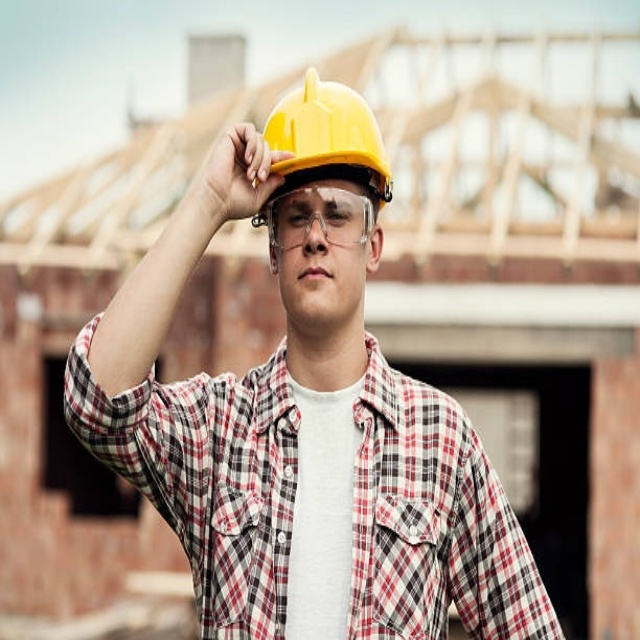Gafas: (262, 184, 373, 251)
Sin_guantes: (203, 119, 295, 227)
Sin_mascara: (291, 259, 339, 314)
